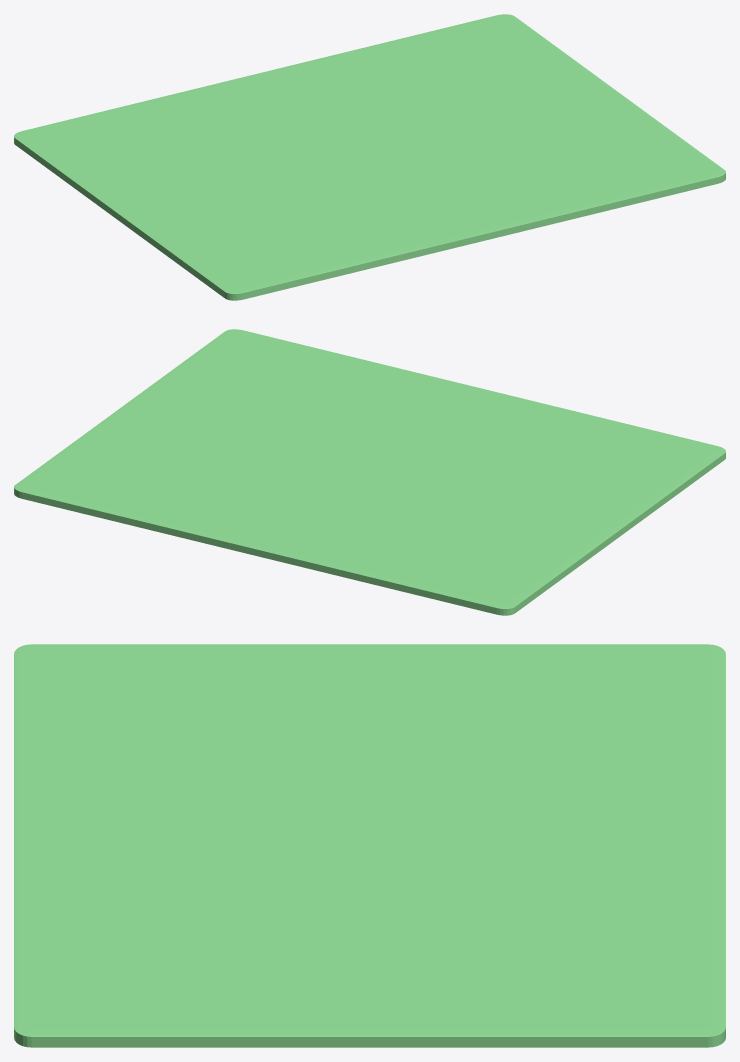
File: GolfPlane.glb
3 renders of one model, top to bottom at view 1: azimuth 30°, elevation 25°; view 2: azimuth 150°, elevation 25°; view 3: azimuth 270°, elevation 25°, orthographic. The views are drawn at different scales.
Parts seen in each view (by area): view 1: Cube.006; view 2: Cube.006; view 3: Cube.006.
Boxes of the visible parts, x1,y1,x2,y2 form: Cube.006: [14, 14, 725, 300]; Cube.006: [14, 329, 725, 615]; Cube.006: [14, 644, 725, 1047].
Bounding box in the file's own units: 7.5 × 0.1 × 5.75.
